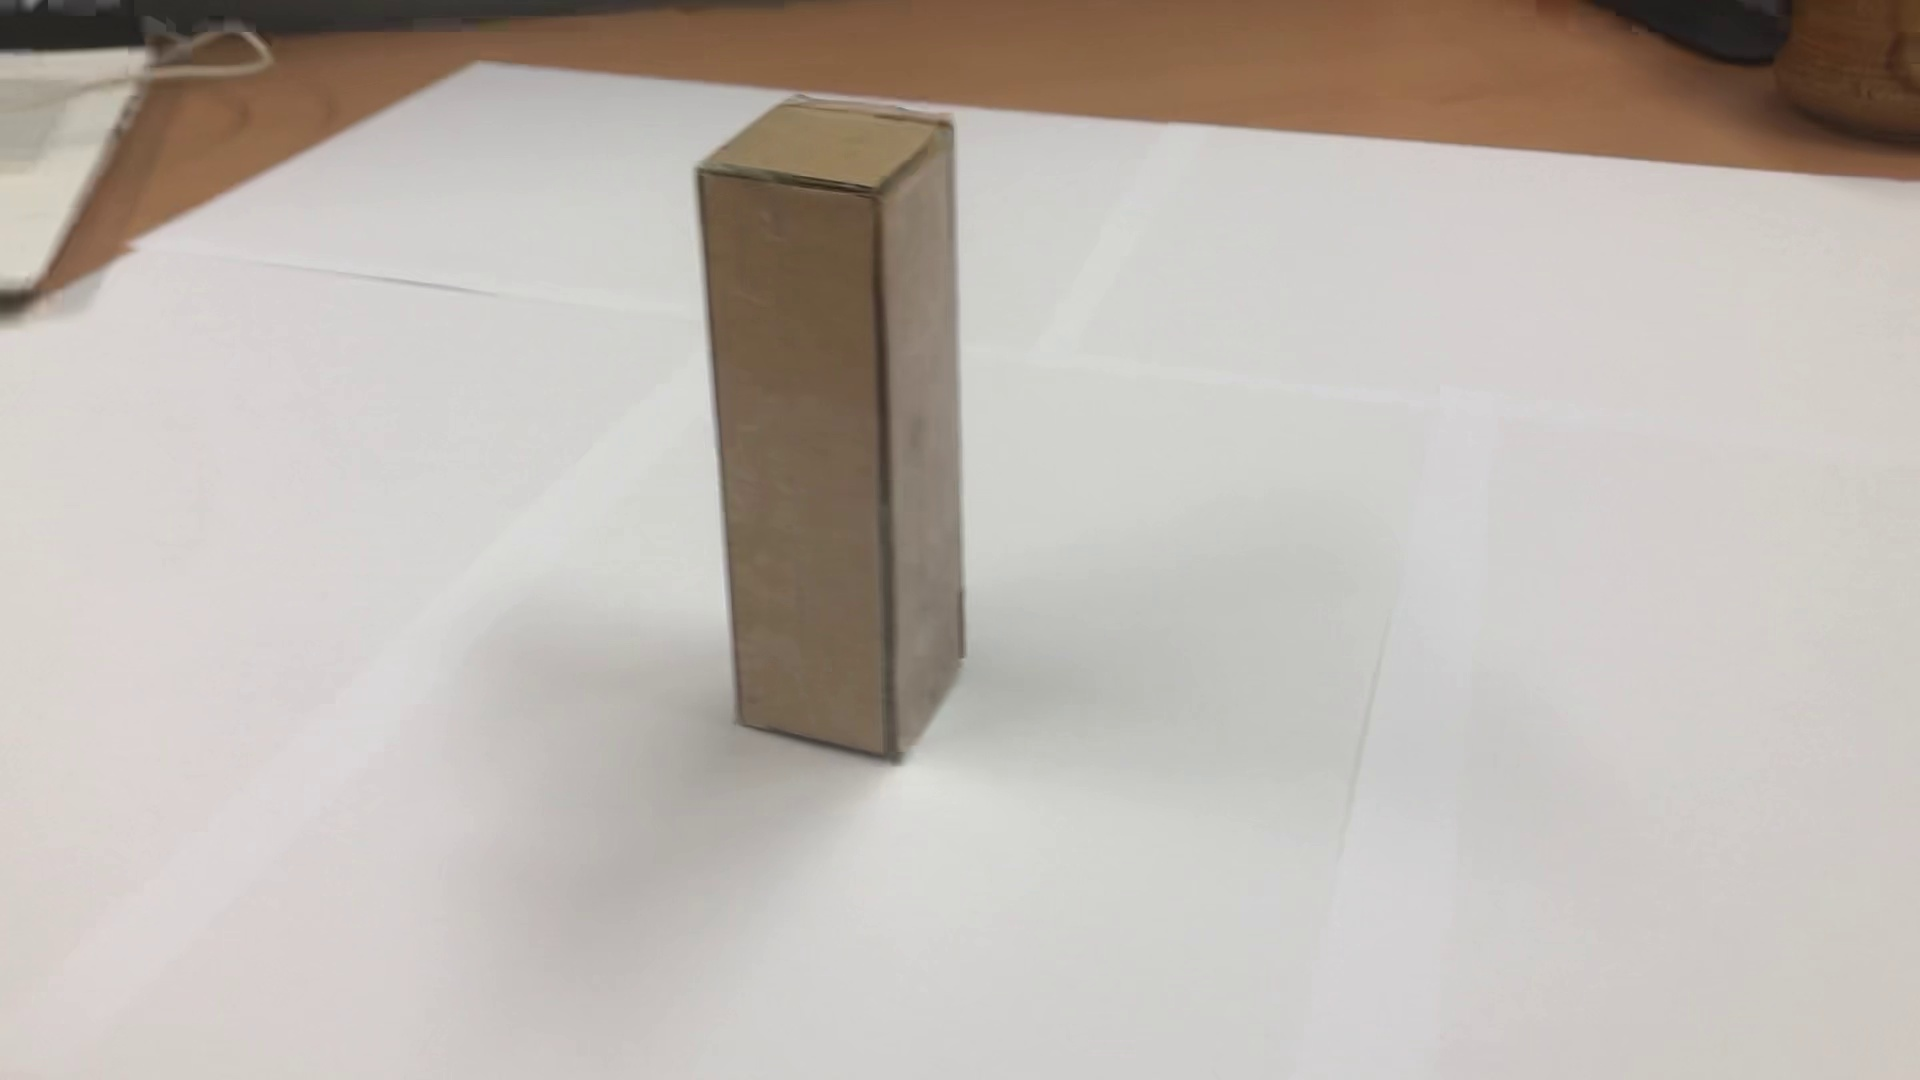box: (673, 84, 1013, 789)
